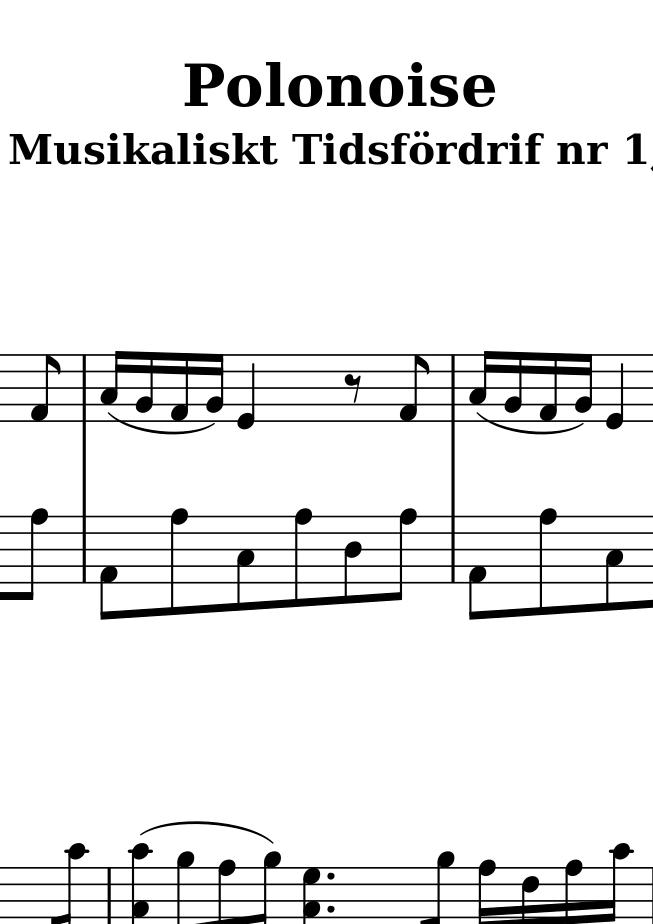16_1: (536, 350, 560, 425), (168, 350, 191, 425)
16_2: (134, 349, 156, 424), (204, 351, 225, 422), (573, 352, 594, 423), (503, 350, 524, 420)
16_3: (98, 348, 126, 424), (467, 348, 495, 423)
4_0: (235, 354, 258, 431), (603, 354, 626, 431)
8_1: (396, 352, 429, 423), (28, 352, 60, 423), (98, 516, 118, 622), (467, 516, 487, 622)
8_3: (234, 514, 256, 613), (603, 514, 625, 613)
8_4: (342, 513, 363, 608)
8_8: (16, 506, 48, 603), (385, 507, 417, 604), (288, 507, 313, 611), (538, 507, 559, 617), (168, 507, 187, 619)
Rests8: (343, 372, 364, 405)
Single_barline: (442, 354, 465, 421), (76, 355, 93, 422), (76, 516, 93, 582), (445, 516, 462, 582), (102, 868, 116, 922)
Slur: (139, 820, 272, 846), (476, 409, 583, 435), (108, 411, 214, 437)
dot: (324, 869, 337, 883), (324, 902, 337, 915)
